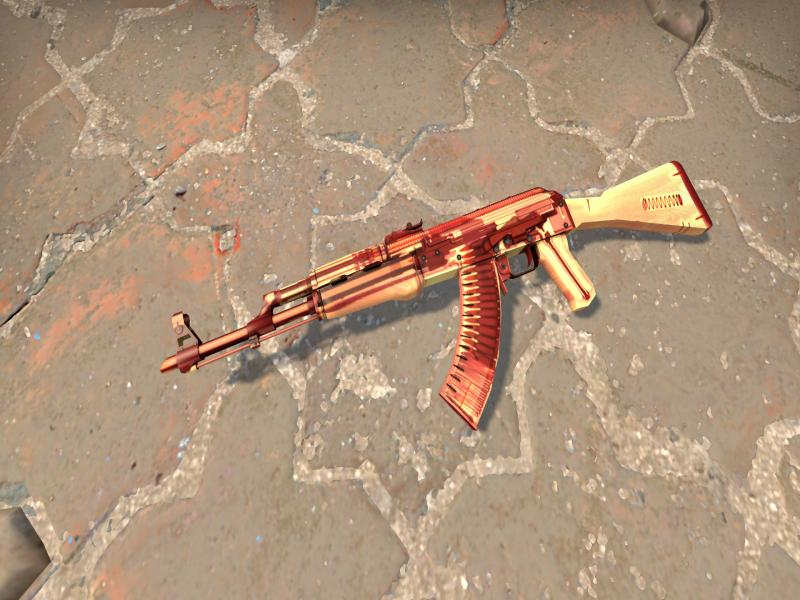AK47: (161, 160, 713, 426)
